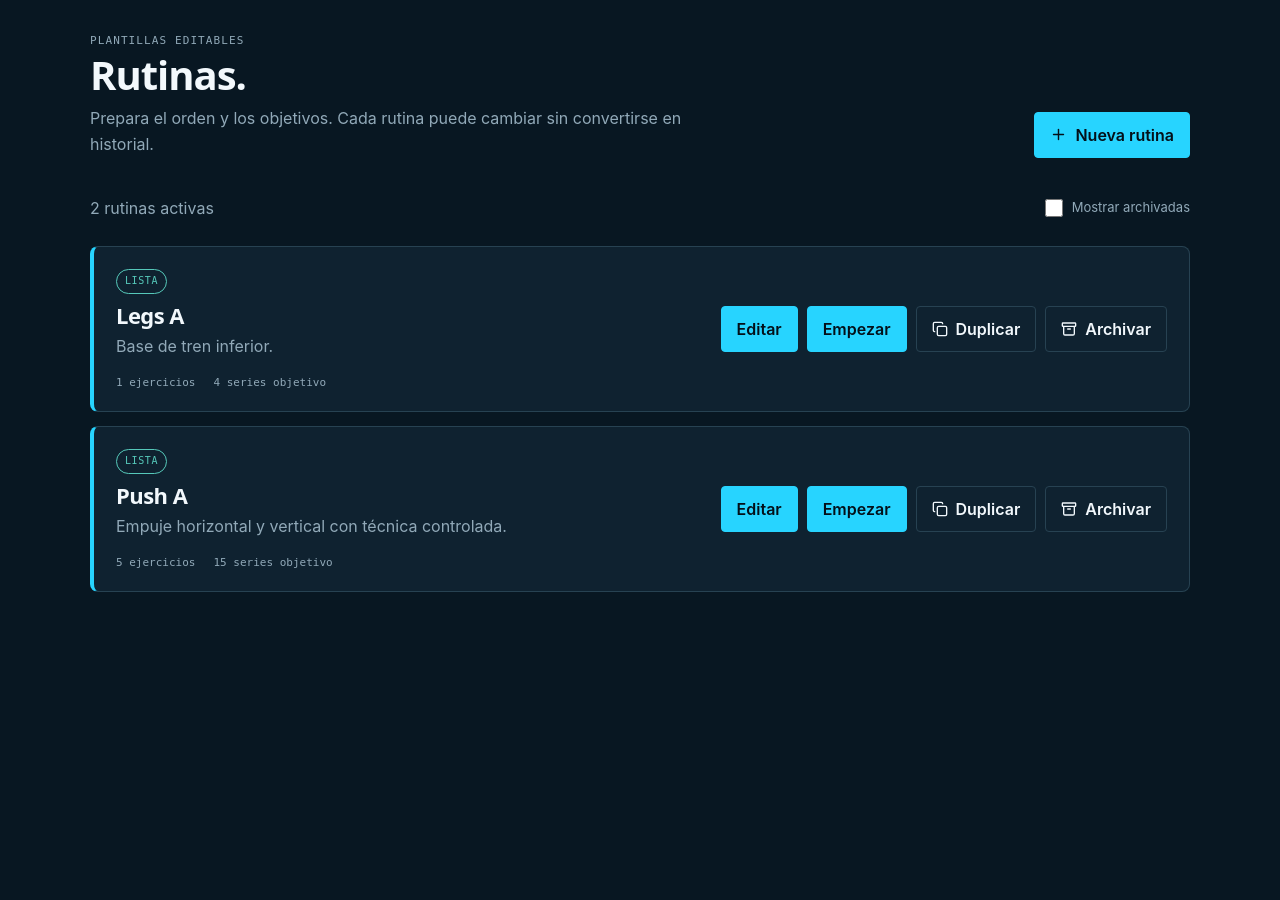
Test: gestión de rutinas › duplica y archiva sin afectar la copia
Step 1. Click the button "Duplicar" in the row of "Push A" → (976, 509), box [916, 486, 1036, 532]
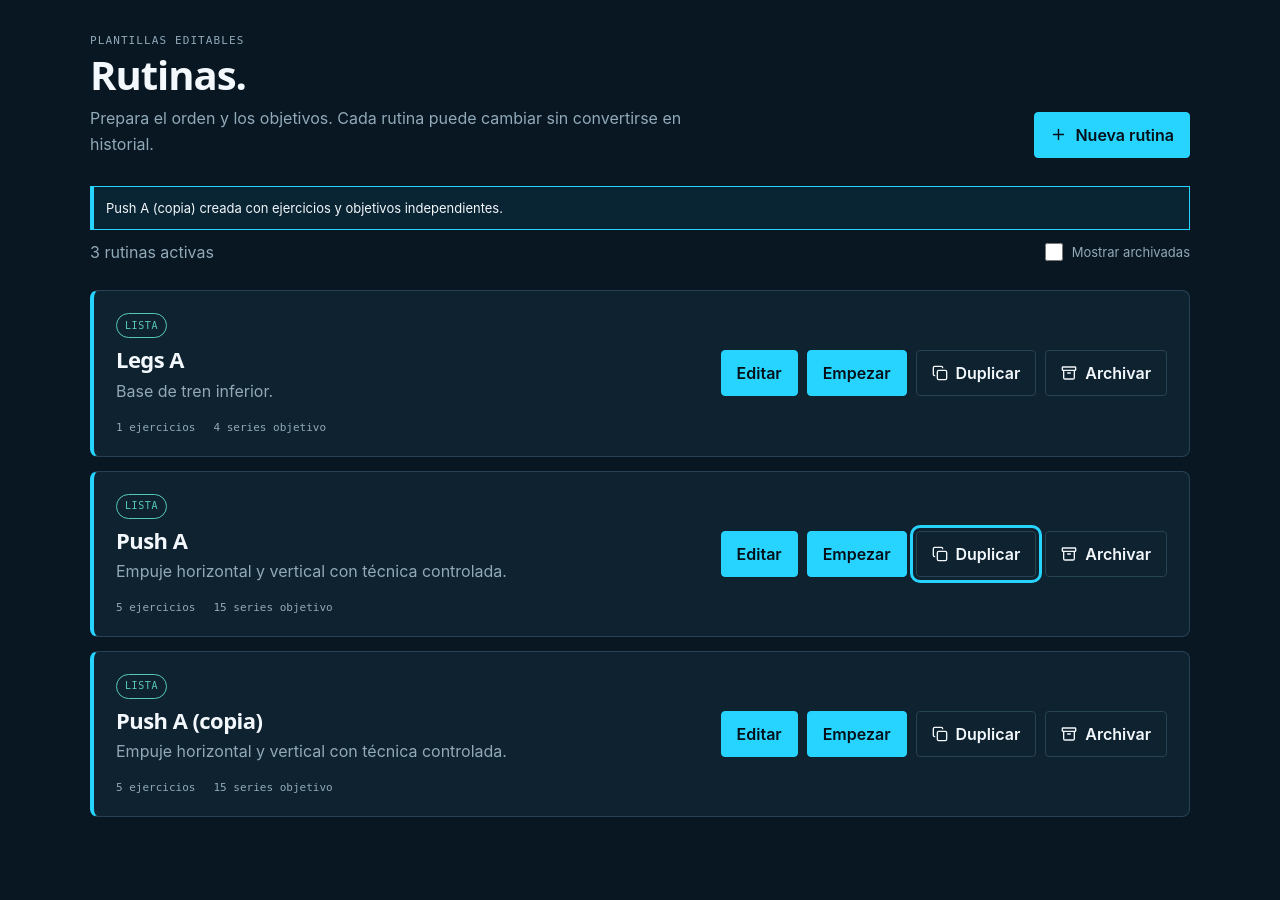
Result: the heading "Push A (copia)" is shown at [116, 705, 262, 735]
Step 2. Click the 2nd button "Archivar" → (1106, 554), box [1045, 531, 1167, 577]
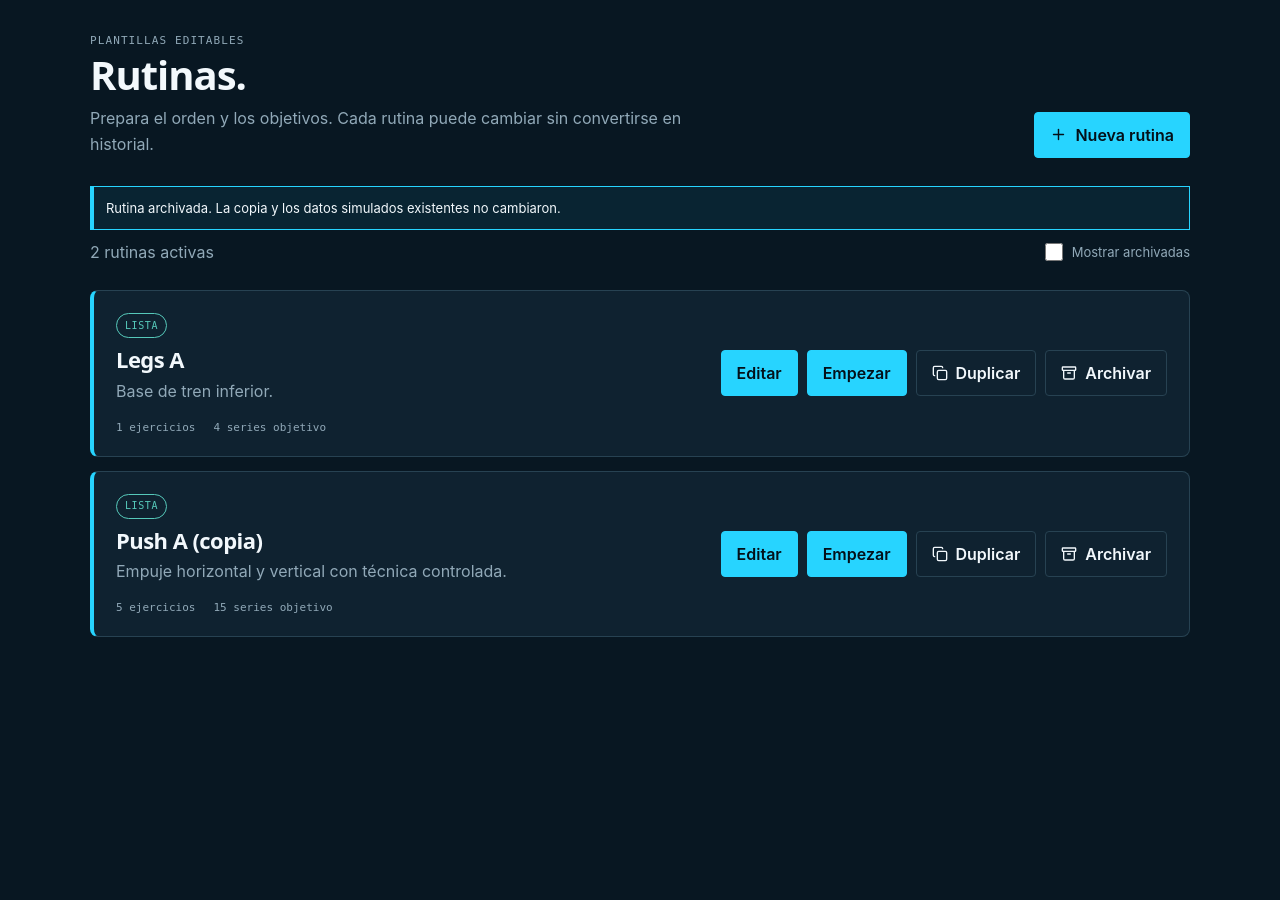
Result: the heading "Push A (copia)" is shown at [116, 524, 262, 554]
Result: the text "Rutina archivada. La copia y los datos simulados existentes no cambiaron." is shown at [90, 186, 1190, 230]
